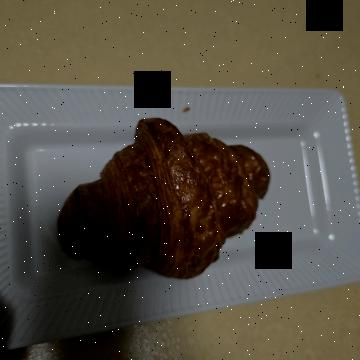croissant: (115, 76, 293, 308)
